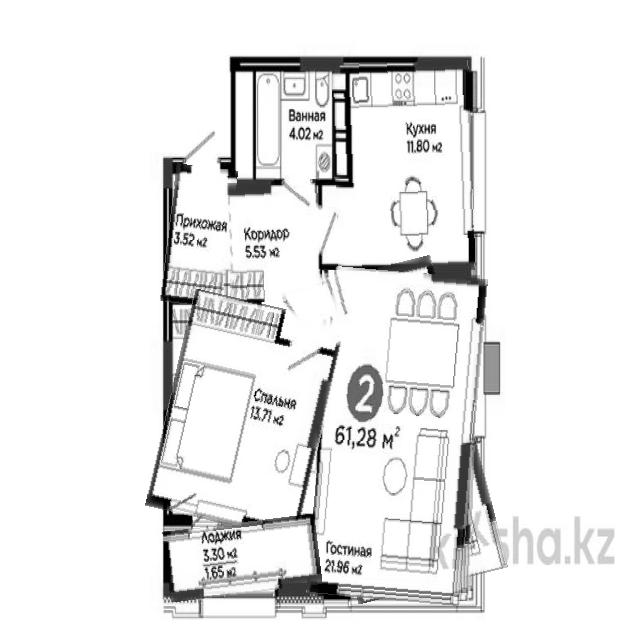balcony: (164, 518, 321, 597)
bathroom: (254, 62, 336, 185)
hallway: (313, 272, 478, 600), (227, 180, 322, 302), (164, 165, 234, 306)
kitchen: (333, 61, 474, 273)
living_room: (300, 262, 490, 597), (314, 269, 482, 603), (156, 296, 336, 533)
